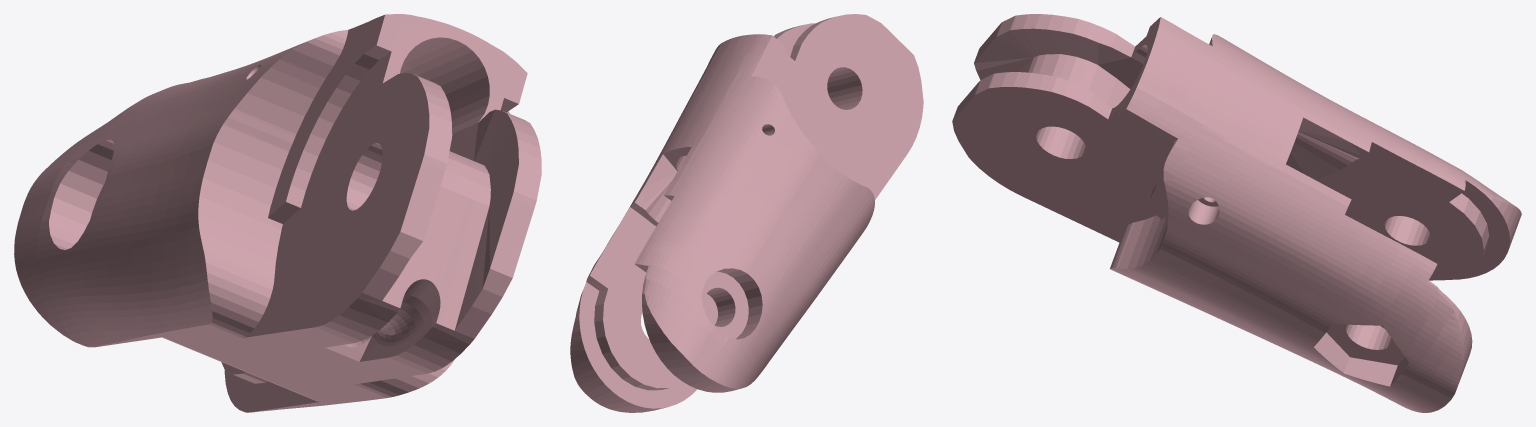
File: i02_leftHand_indexMid_visual.obj
3 renders of one model, left to right at view 1: azimuth 30°, elevation 25°; view 2: azimuth 150°, elevation 25°; view 3: azimuth 270°, elevation 25°, orthographic. The views are drawn at different scales.
Parts seen in each view (by area): view 1: i02_leftHand_indexMid_visual.001; view 2: i02_leftHand_indexMid_visual.001; view 3: i02_leftHand_indexMid_visual.001.
Boxes of the visible parts, x1,y1,x2,y2 form: i02_leftHand_indexMid_visual.001: [14, 14, 541, 412]; i02_leftHand_indexMid_visual.001: [570, 14, 923, 412]; i02_leftHand_indexMid_visual.001: [952, 14, 1521, 412].
Size of the model in its own units: 0.1771 by 0.2842 by 0.3928.
